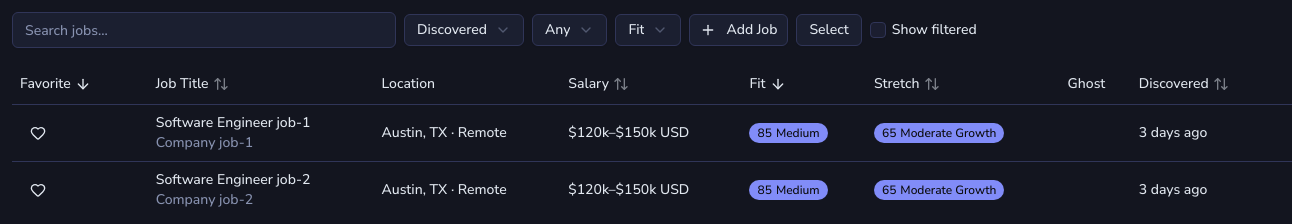
Test case: OpportunitiesTable › multi-select mode › shows checkbox column when Select is clicked
This screenshot has width=1292, height=224.
Expected: the text "Software Engineer job-1" is shown, [156,112,310,132]
Click the button with test id "select-mode-button".
click(829, 30)  # box [796,14,862,46]
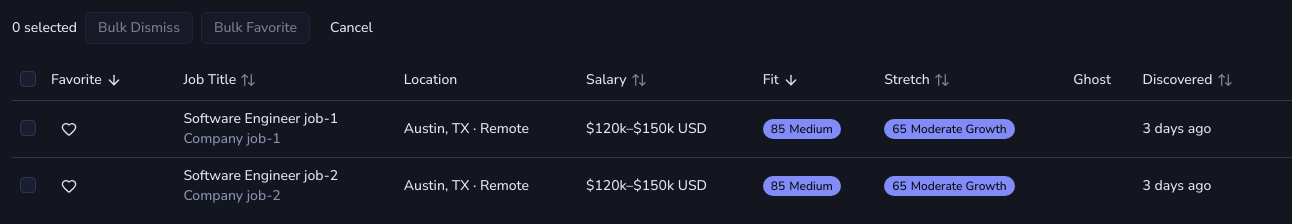
Expected: the checkbox named "Select all" is shown, [20,71,36,87]
